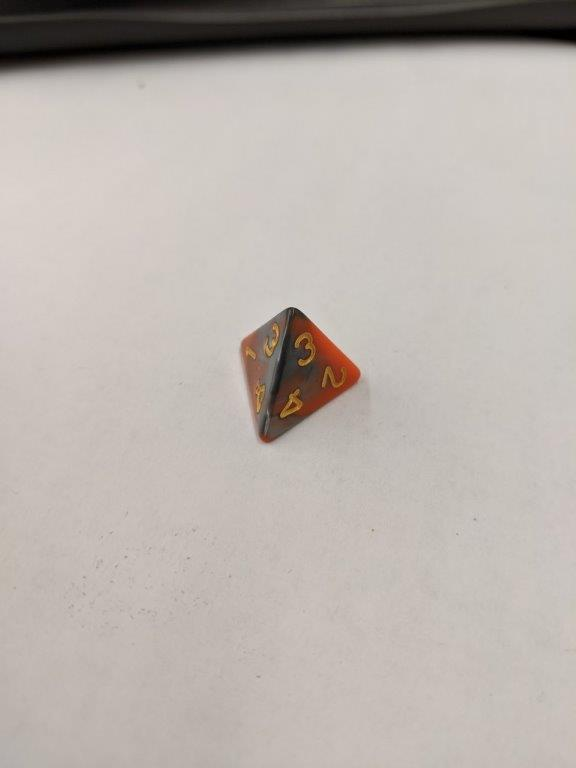d4-3: (236, 303, 364, 447)
